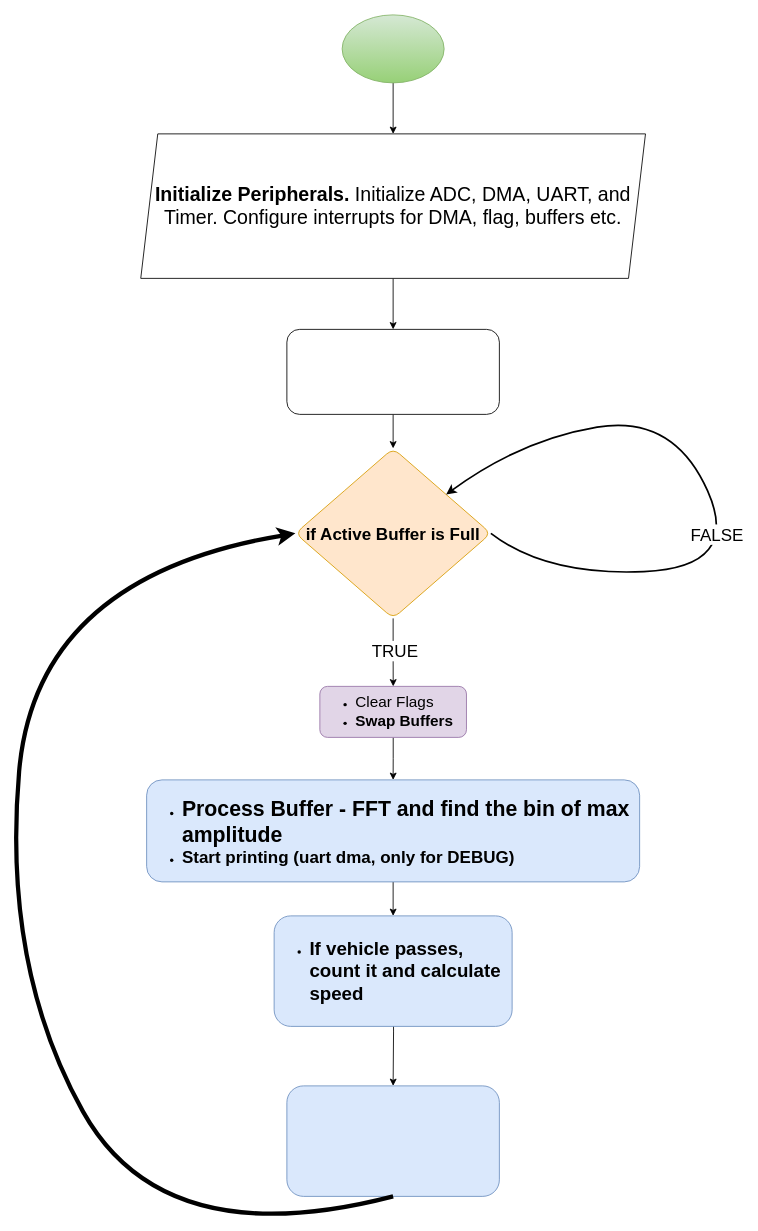
The diagram is 758 pixels wide and 1231 high, and some of its shapes have lost their labels. Here are the shapes that lost their labels. From the top down, the box of each, then its label:
(341, 14, 444, 83): START
(286, 329, 499, 414): Start ADC DMA - Fill active buffer
(286, 1085, 499, 1196): Star ADC DMA to fill the other buffer
